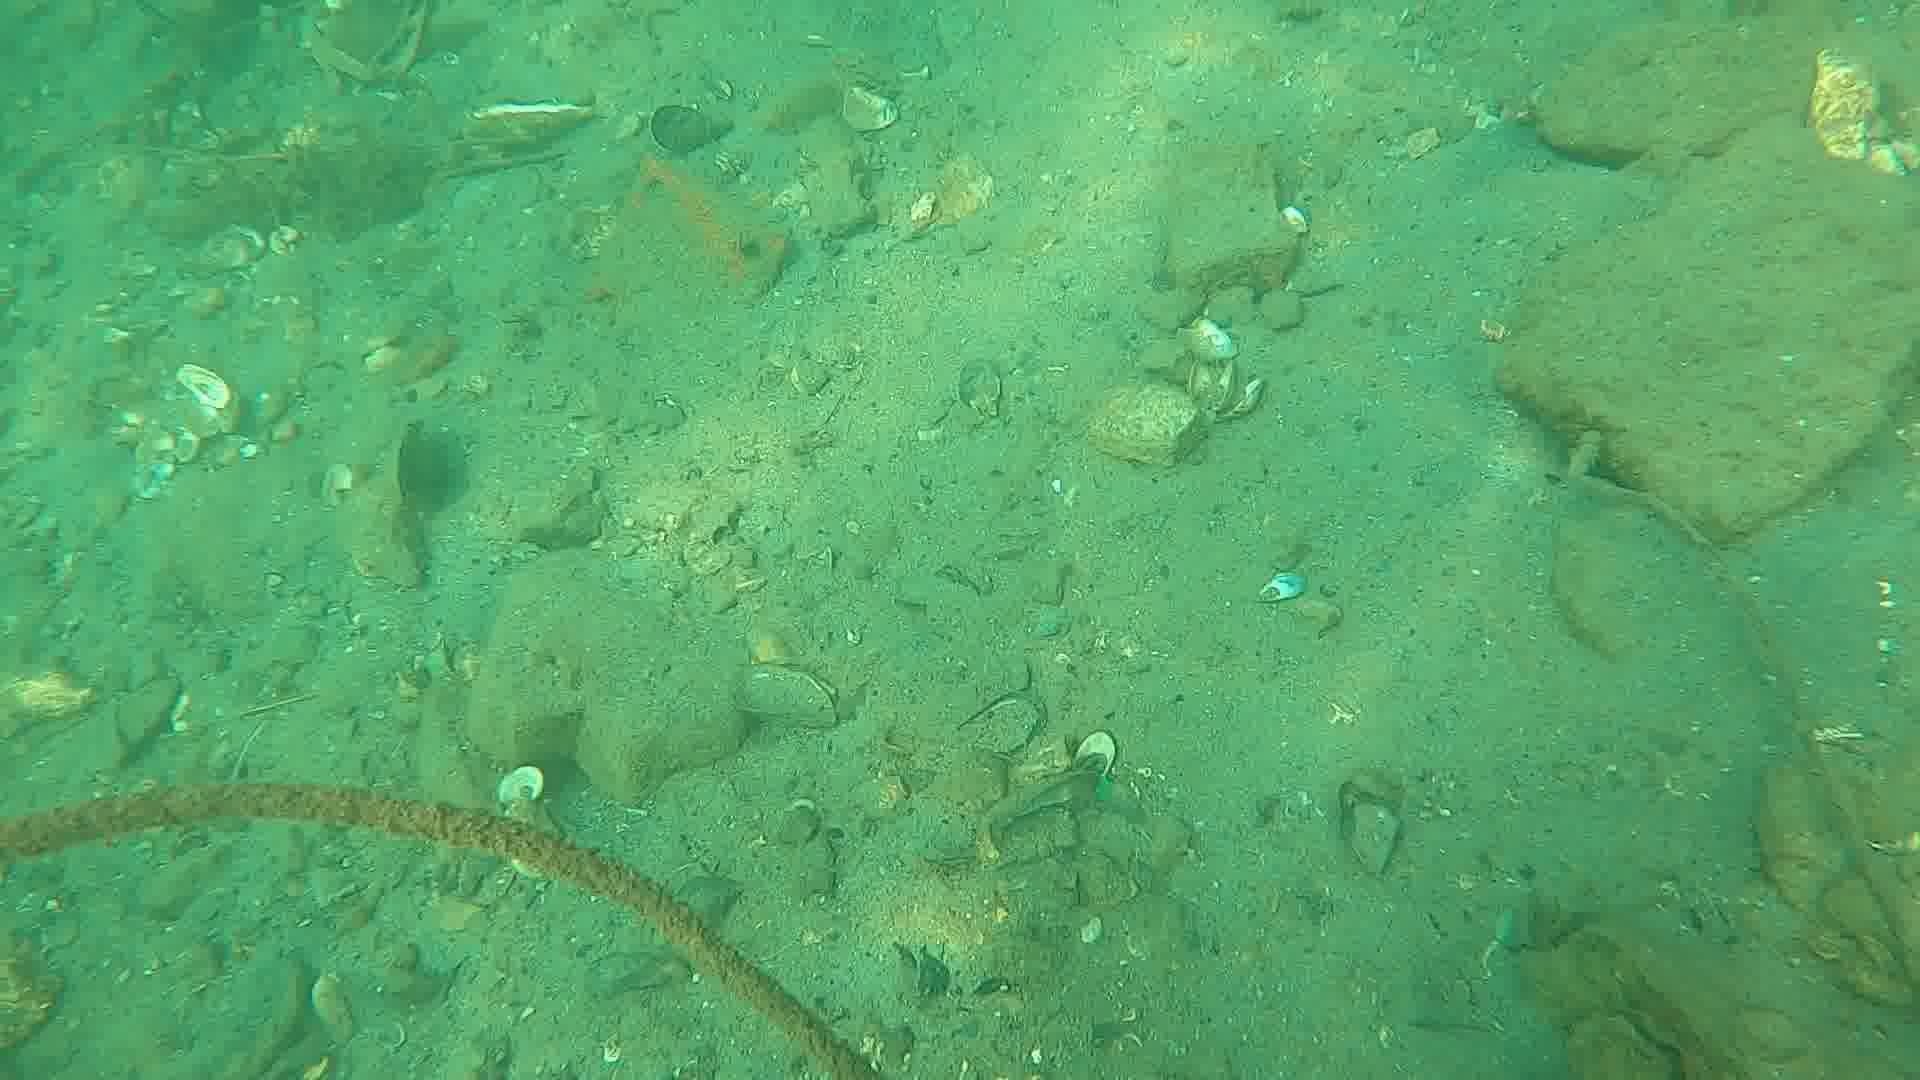rope: (0, 779, 895, 1080)
